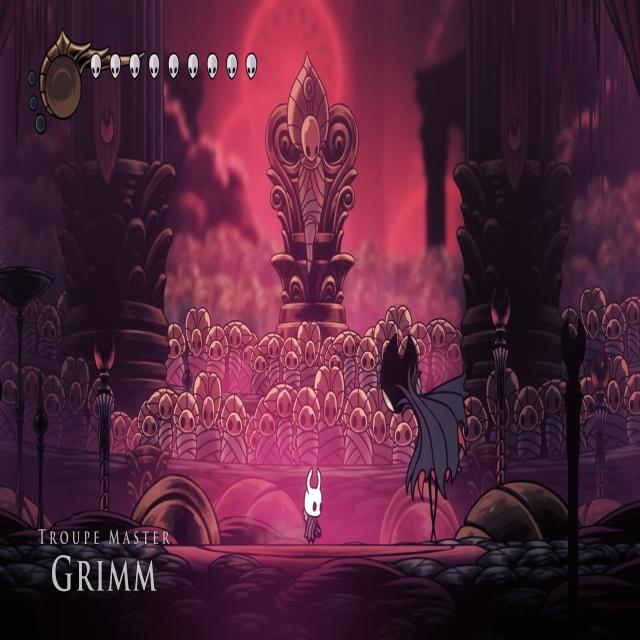Grimm: (377, 311, 476, 550)
Player: (301, 464, 326, 544)
